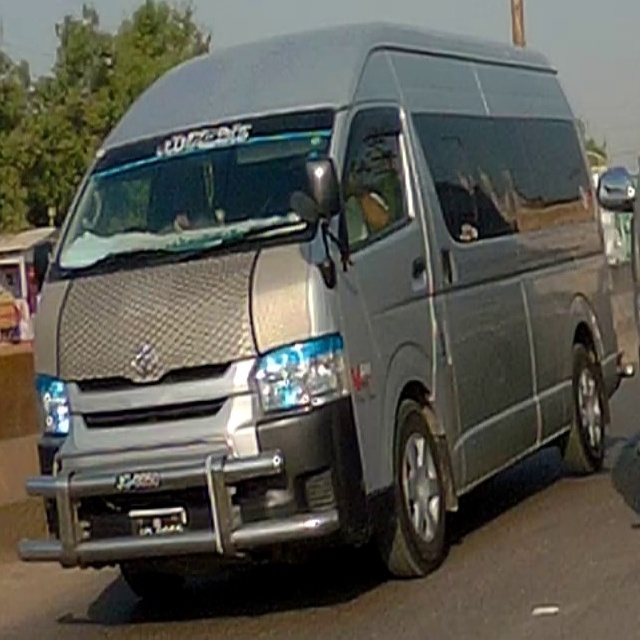Van: (16, 19, 623, 603)
